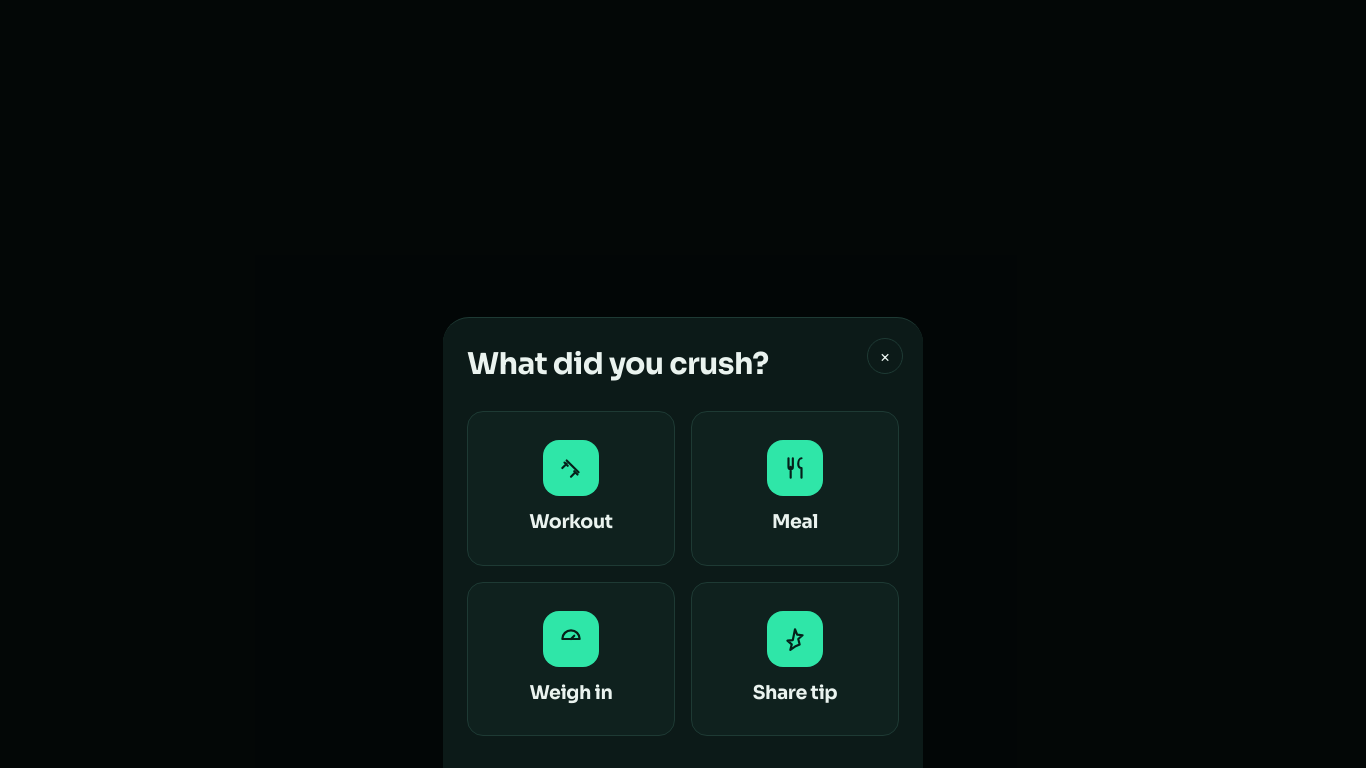
Test case: logging a workout › falls back to a default title rather than writing an empty one
Click the button "Workout" at [571, 488], box [467,411,675,566]
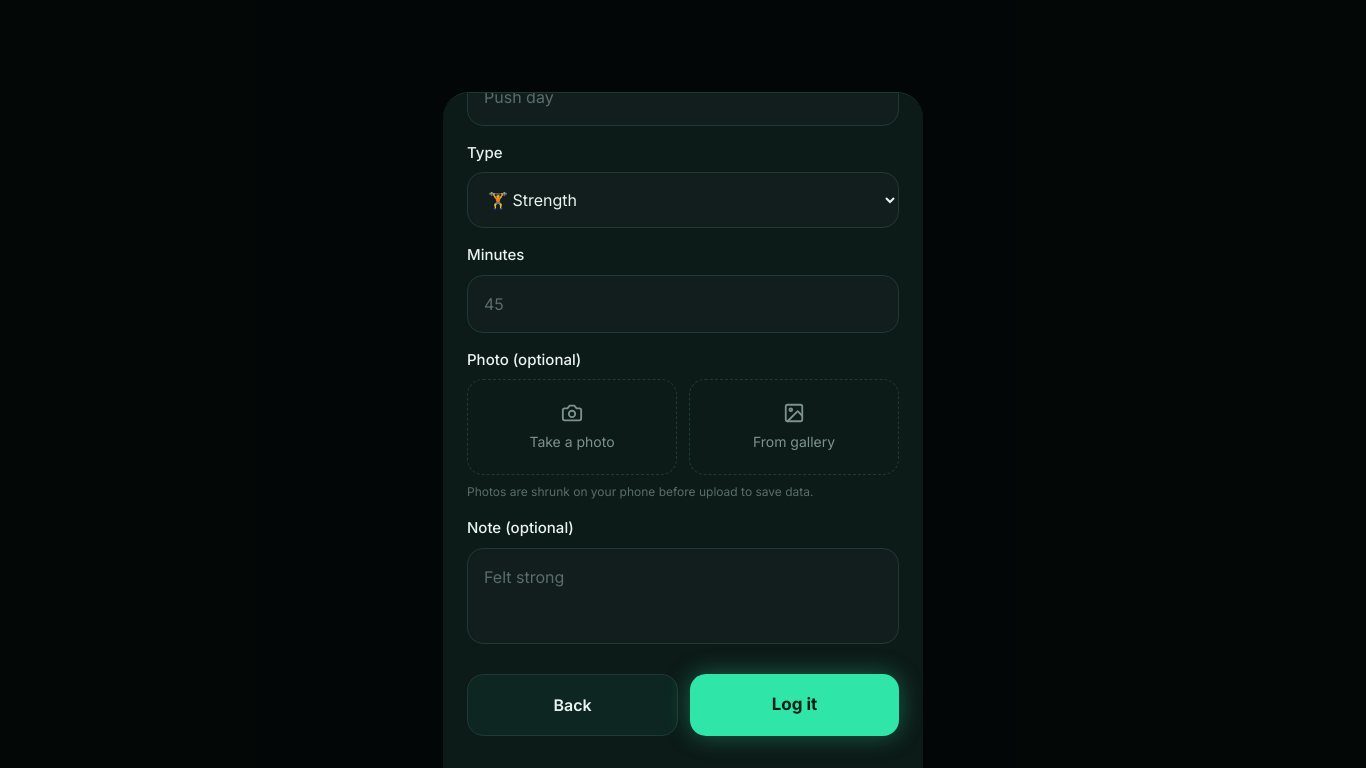
Click the button "Log it" at [794, 705], box [690,674,899,736]
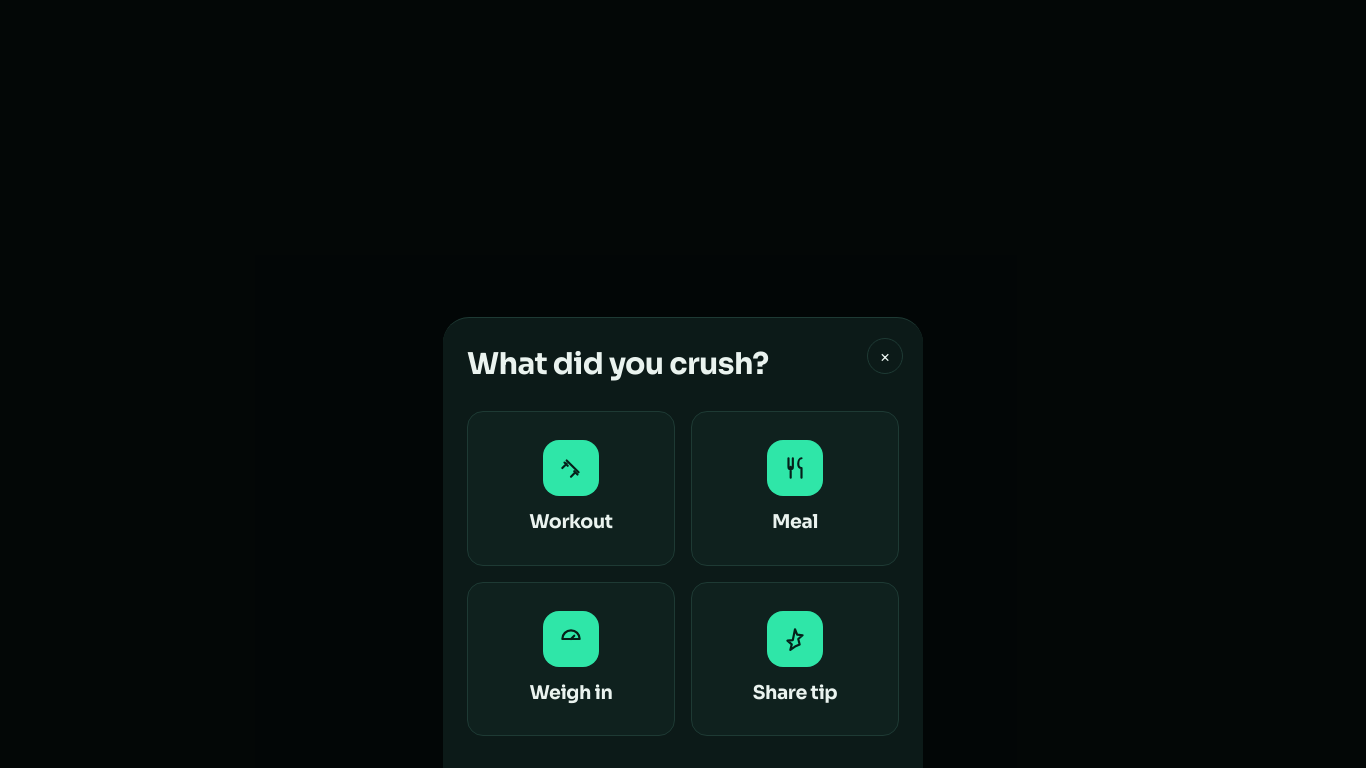
Expected: the text "Workout" is shown, [529,508,613,536]
